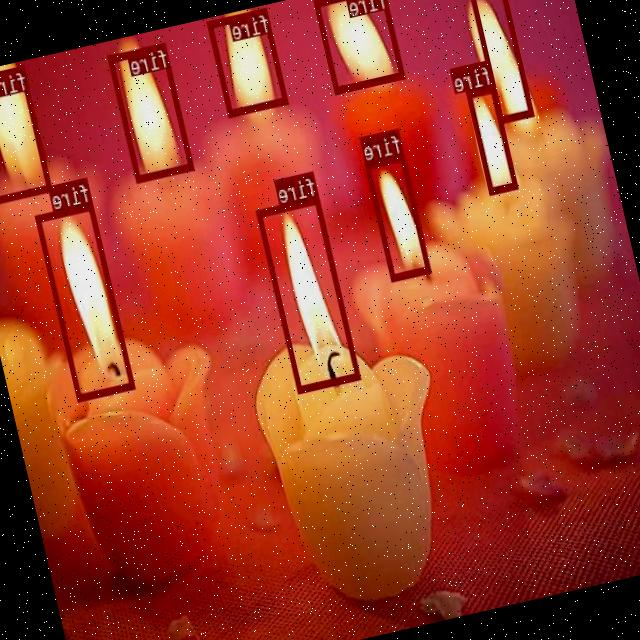fire: (256, 195, 362, 392), (36, 201, 136, 399), (108, 40, 194, 180), (208, 7, 288, 115), (365, 152, 432, 279), (314, 0, 405, 92), (468, 0, 535, 123), (0, 64, 53, 201), (466, 84, 518, 192)
